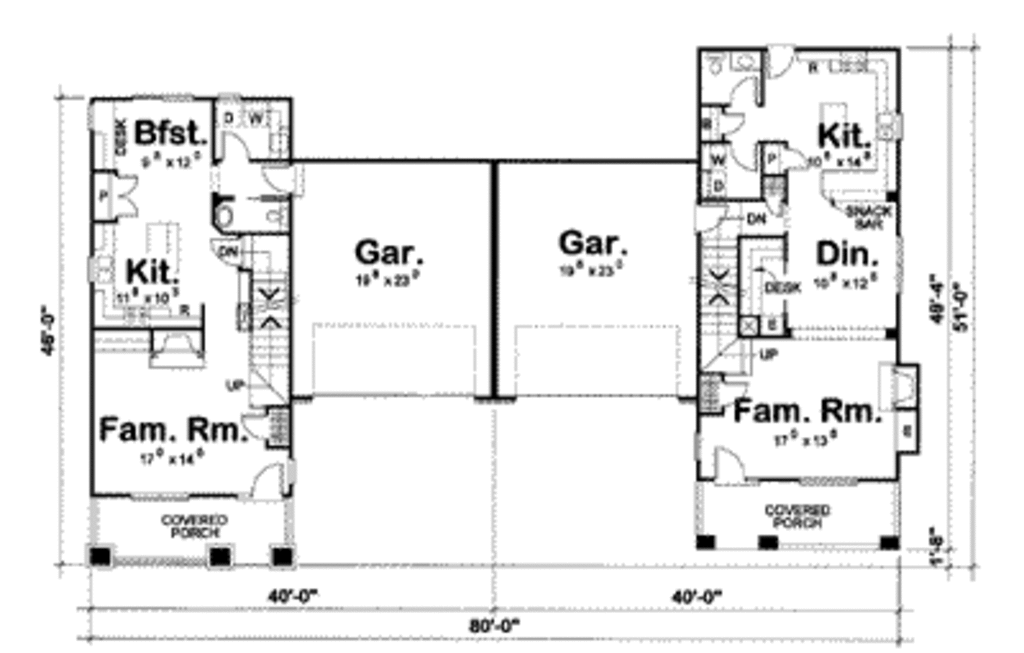door: (264, 159, 318, 199), (712, 442, 756, 489), (250, 460, 294, 503), (111, 168, 146, 221), (696, 203, 740, 238), (220, 128, 259, 166), (730, 76, 768, 110), (242, 408, 273, 446), (722, 382, 755, 416), (780, 141, 805, 178), (730, 142, 761, 170), (723, 111, 750, 136)
kitchen_bar: (818, 100, 862, 160)
large_sink: (260, 200, 303, 231), (704, 47, 729, 80)
small_sink: (215, 194, 240, 230)
stairs: (697, 228, 793, 377), (239, 235, 304, 406)
twin_sink: (93, 256, 130, 287)
window: (793, 475, 868, 491), (121, 485, 182, 497)
